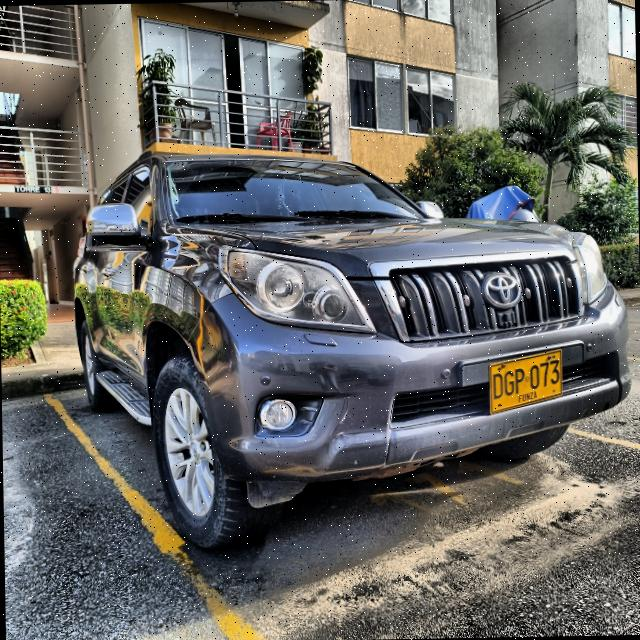0: (529, 362, 541, 390)
3: (549, 358, 560, 386)
7: (539, 360, 549, 389)
D: (491, 371, 504, 400)
G: (503, 368, 515, 397)
P: (513, 365, 525, 395)
